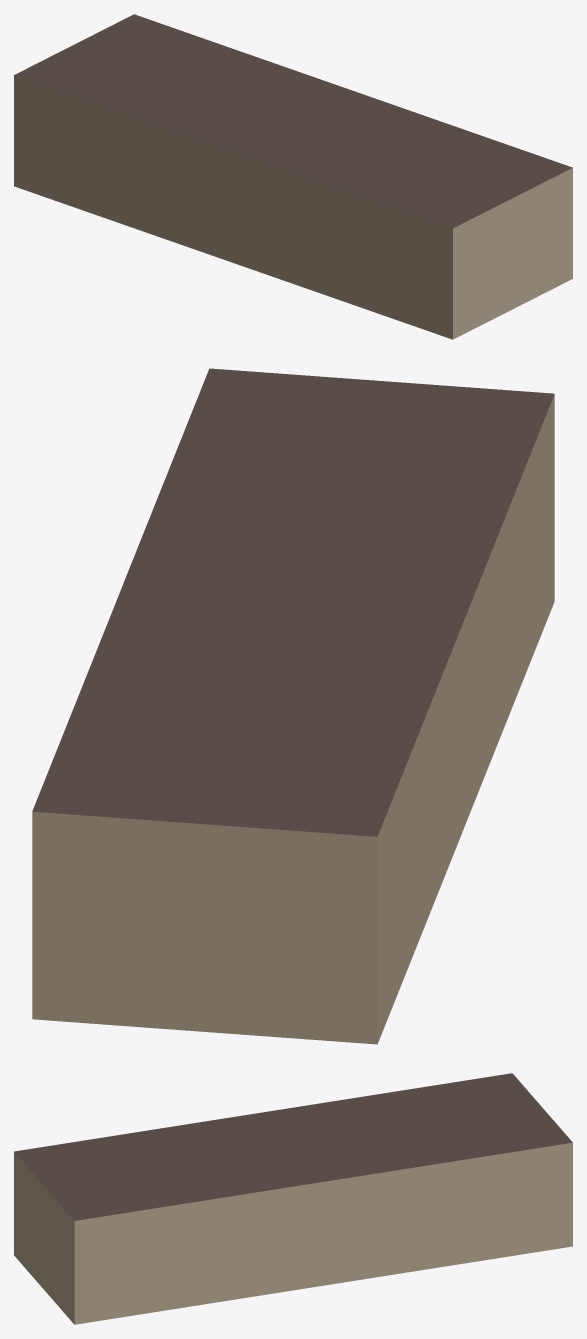
3 views of the same model, one above another, from view 1: azimuth 30°, elevation 25°; view 2: azimuth 150°, elevation 25°; view 3: azimuth 270°, elevation 25° (orthographic). The views are drawn at different scales.
Parts seen in each view (by area): view 1: HP-w859082475; view 2: HP-w859082475; view 3: HP-w859082475.
Boxes of the visible parts, <box> form: HP-w859082475: <box>14,14,572,339</box>; HP-w859082475: <box>32,368,554,1044</box>; HP-w859082475: <box>14,1073,572,1324</box>.
Size of the model in its own units: 27.49 by 9 by 43.92.
